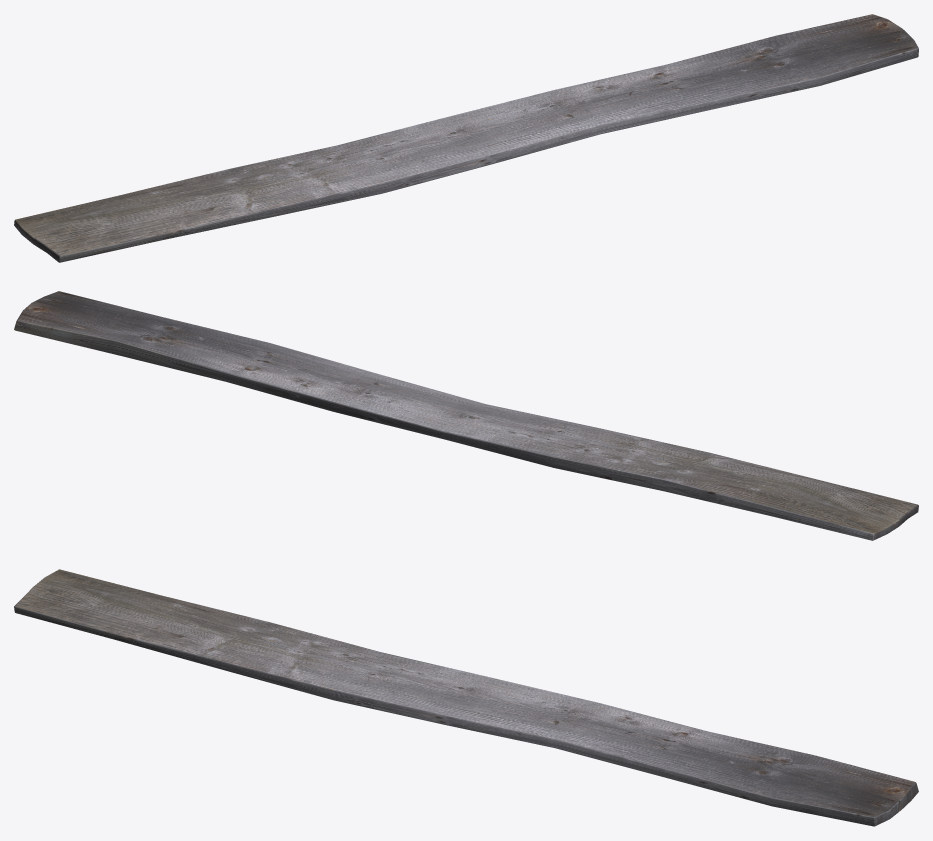
The model's file is SM_WoodPlank_02_05.fbx.
3 views of the same model, one above another, from view 1: azimuth 30°, elevation 25°; view 2: azimuth 150°, elevation 25°; view 3: azimuth 330°, elevation 25° (orthographic).
Parts seen in each view (by area): view 1: sm_WoodPlank_02_05_LOD0; view 2: sm_WoodPlank_02_05_LOD0; view 3: sm_WoodPlank_02_05_LOD0.
Boxes of the visible parts, box(x1,y1,x2,y2) form: sm_WoodPlank_02_05_LOD0: box(14, 14, 918, 262); sm_WoodPlank_02_05_LOD0: box(14, 291, 918, 540); sm_WoodPlank_02_05_LOD0: box(14, 569, 918, 826).
Size of the model in its own units: 30.42 by 297 by 7.47.
